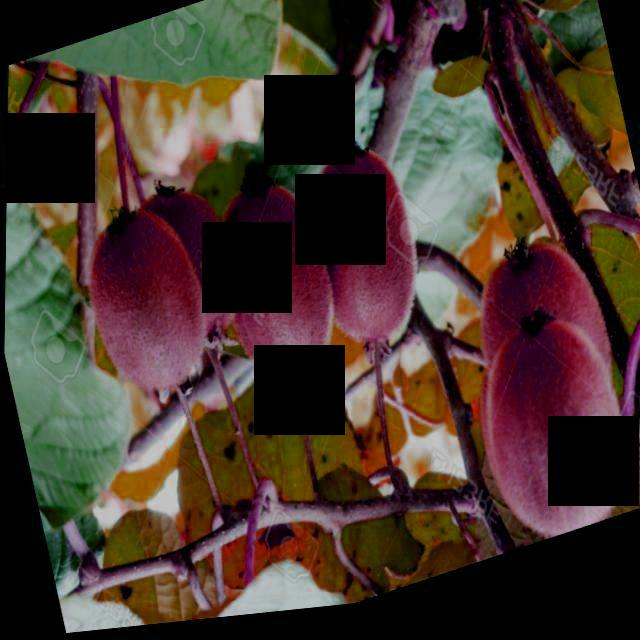kiwi: (458, 312, 640, 570), (460, 237, 631, 481), (69, 191, 224, 426), (201, 168, 349, 409), (292, 136, 437, 376), (124, 175, 251, 370)
